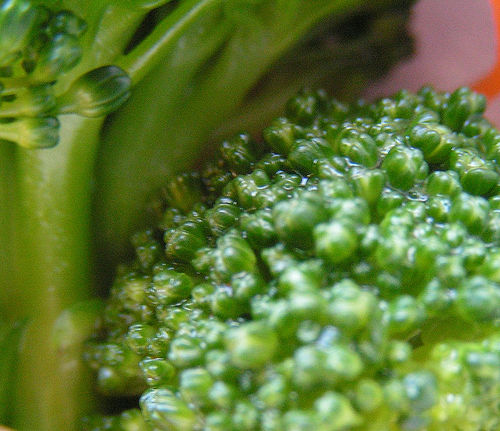broccoli: (0, 0, 350, 429), (84, 84, 498, 429)
